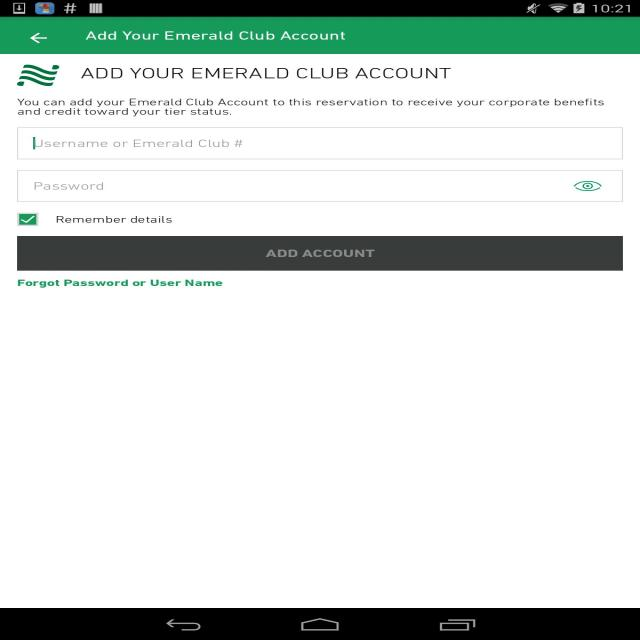button: (17, 236, 622, 271), (21, 28, 60, 50), (568, 176, 606, 196), (16, 212, 40, 228)
field: (15, 128, 623, 162), (18, 169, 622, 203)
heading: (76, 63, 460, 87), (79, 28, 354, 46)
image: (12, 60, 69, 90)
label: (28, 133, 246, 152), (31, 178, 106, 192), (49, 217, 177, 225)
link: (18, 278, 225, 288)
text: (16, 98, 608, 118)
